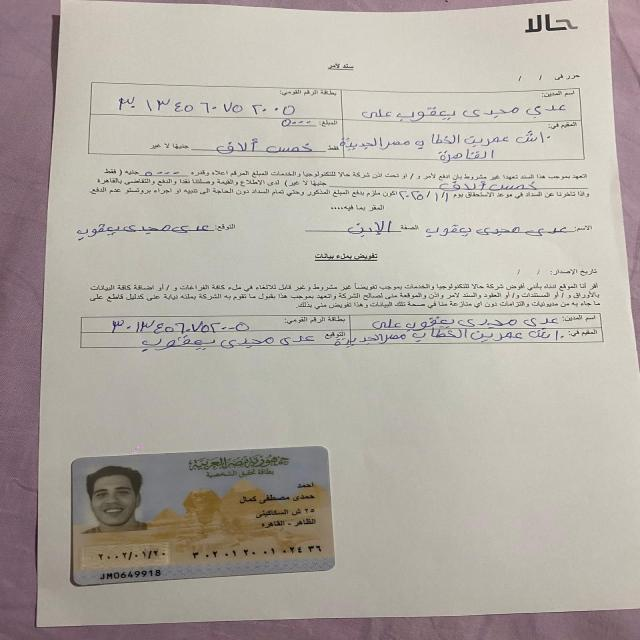id_card: (61, 443, 340, 591)
